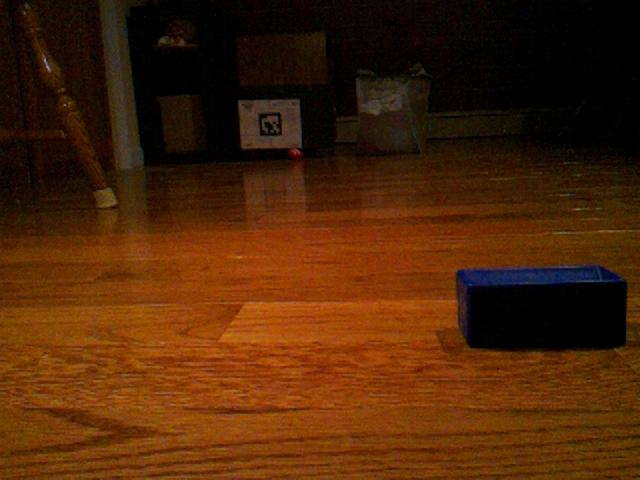blue: (454, 262, 629, 351)
